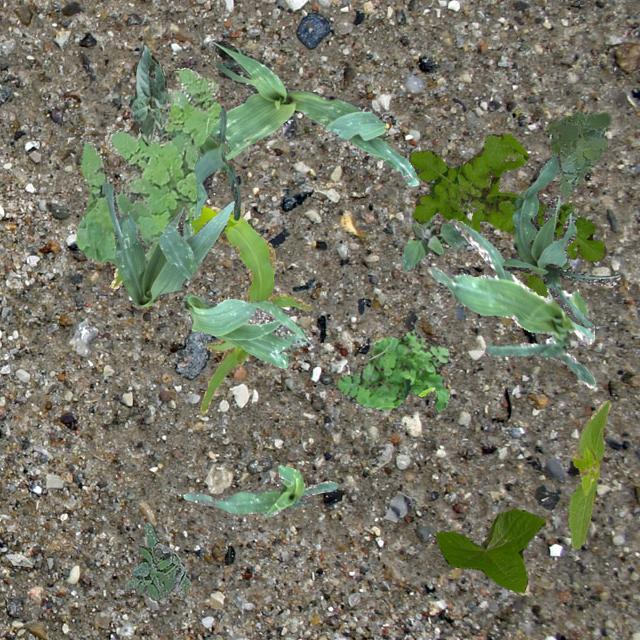crop: (110, 204, 310, 412), (190, 40, 418, 218), (426, 218, 594, 386), (502, 154, 618, 326), (103, 182, 234, 306), (128, 94, 240, 218), (182, 292, 314, 368), (436, 508, 544, 592), (182, 464, 338, 516), (568, 400, 610, 548), (128, 44, 172, 144)
weed: (408, 134, 606, 296), (74, 66, 220, 264), (337, 330, 448, 410), (546, 110, 610, 196), (122, 522, 190, 600), (400, 213, 470, 270)
